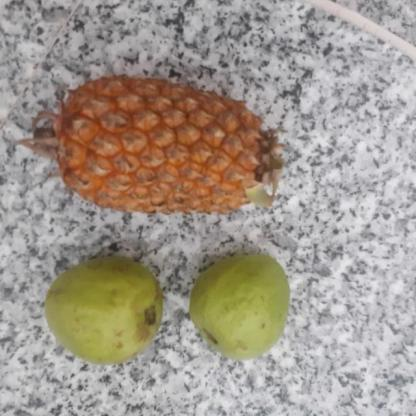guava: (44, 258, 169, 364), (188, 258, 294, 359)
pineapple: (22, 80, 292, 218)
